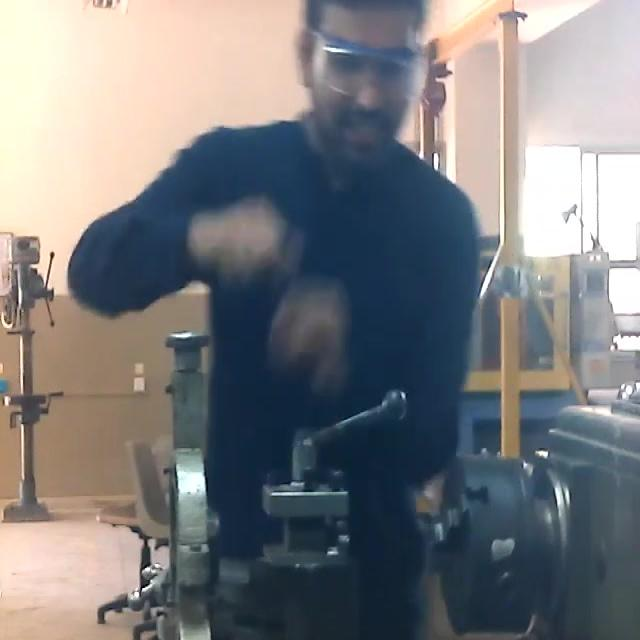googles: (312, 23, 428, 105)
